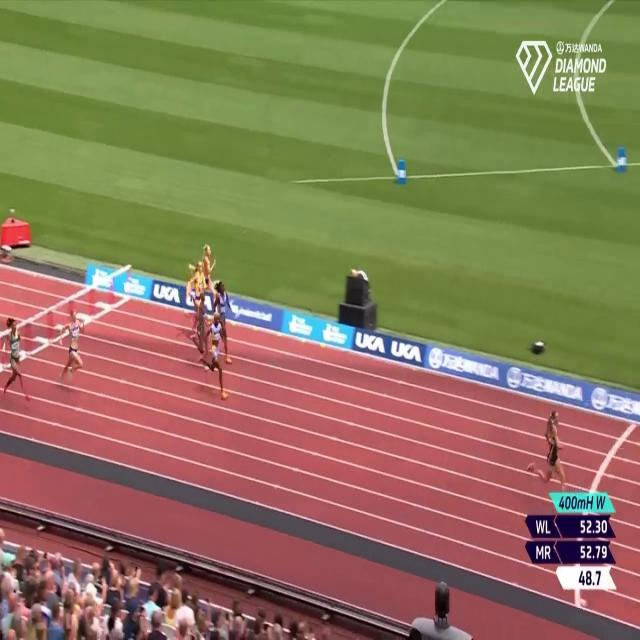athlete: (527, 397, 571, 500), (53, 303, 91, 390), (205, 310, 231, 407), (4, 314, 28, 416), (181, 260, 210, 342), (212, 276, 237, 368), (200, 233, 221, 332), (190, 288, 208, 364)
hurdle: (28, 310, 53, 366), (112, 261, 135, 319), (49, 293, 73, 347), (90, 271, 112, 322), (69, 284, 92, 328)
